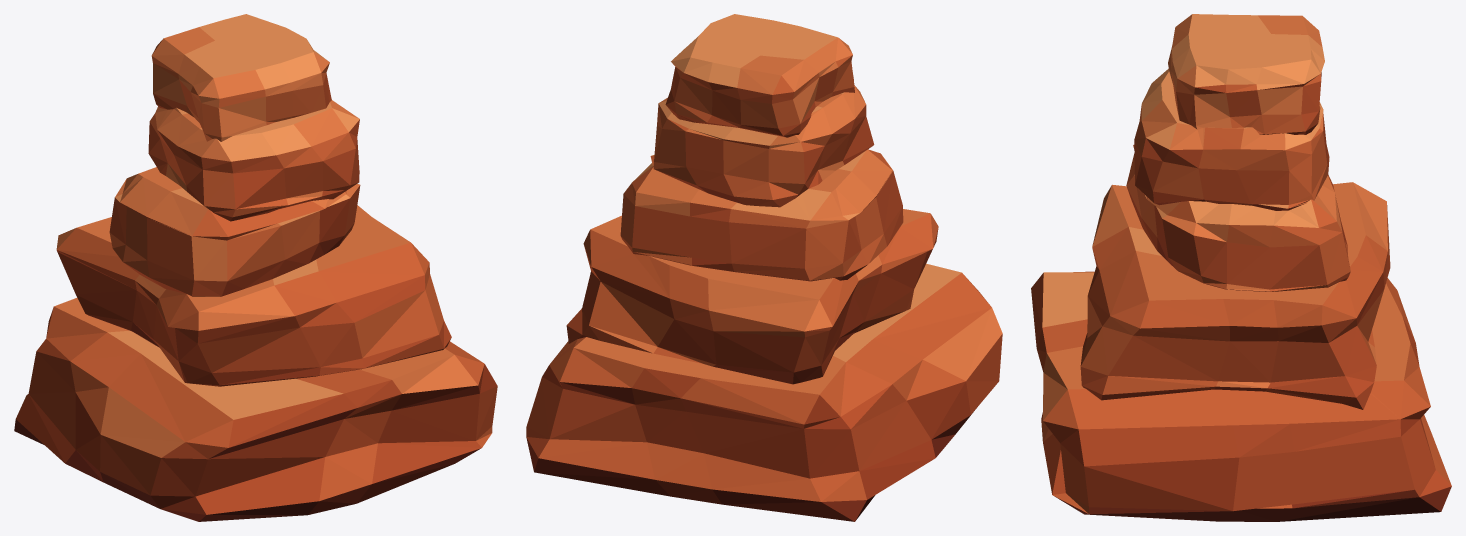
Rendered from SM_ROCK_STACK_01.fbx.
3 renders of one model, left to right at view 1: azimuth 30°, elevation 25°; view 2: azimuth 150°, elevation 25°; view 3: azimuth 270°, elevation 25°, orthographic. The views are drawn at different scales.
Visible parts, largest first — view 1: ROCK_STACK_01; view 2: ROCK_STACK_01; view 3: ROCK_STACK_01.
Boxes of the visible parts, x1,y1,x2,y2 form: ROCK_STACK_01: [14, 14, 497, 521]; ROCK_STACK_01: [526, 14, 1002, 521]; ROCK_STACK_01: [1031, 14, 1451, 521].
Bounding box in the file's own units: 0.7981 × 0.7907 × 0.84.
